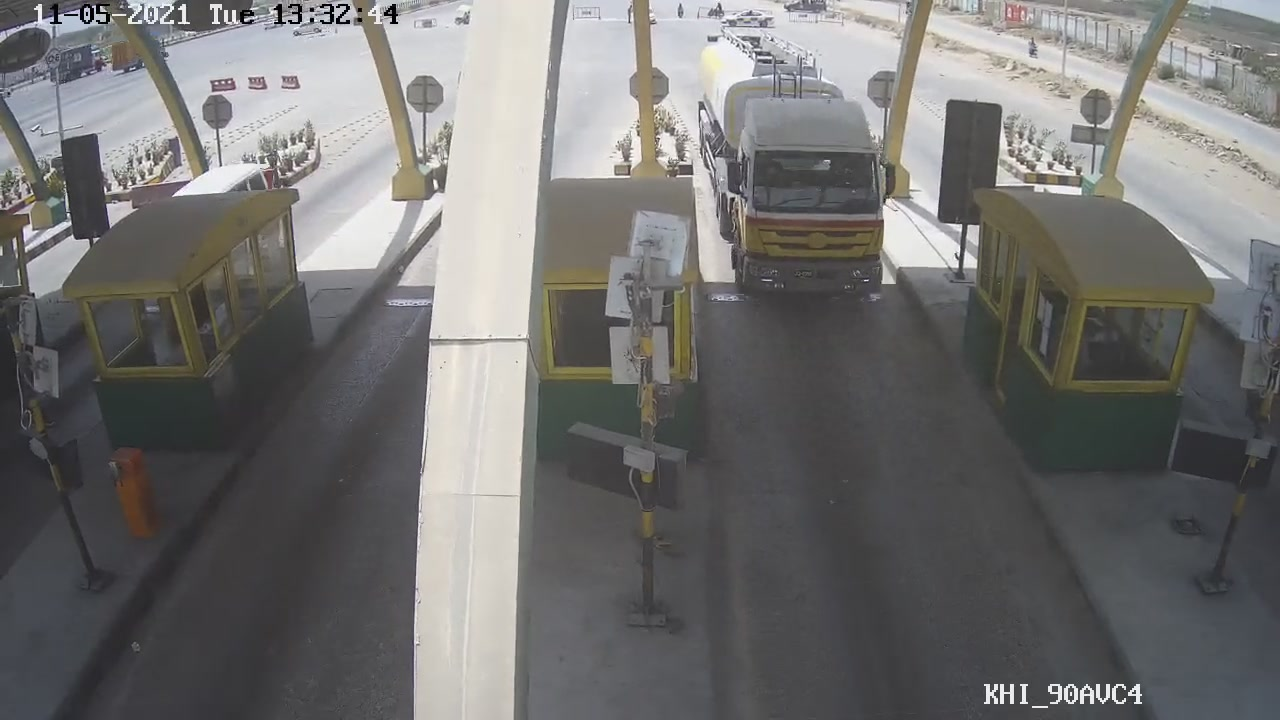F6: (691, 33, 904, 321)
